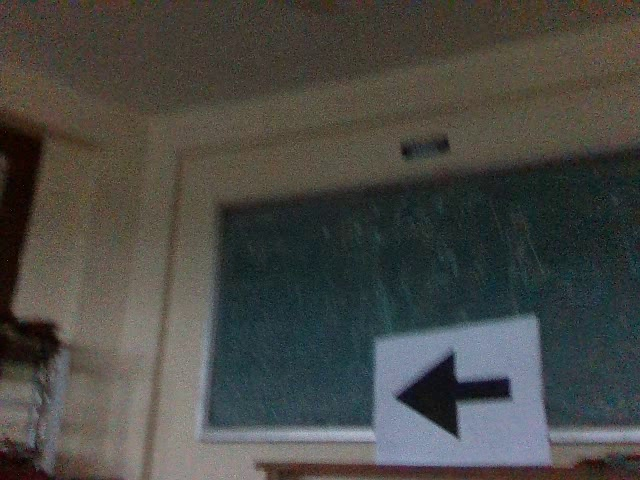Left: (387, 346, 522, 443)
